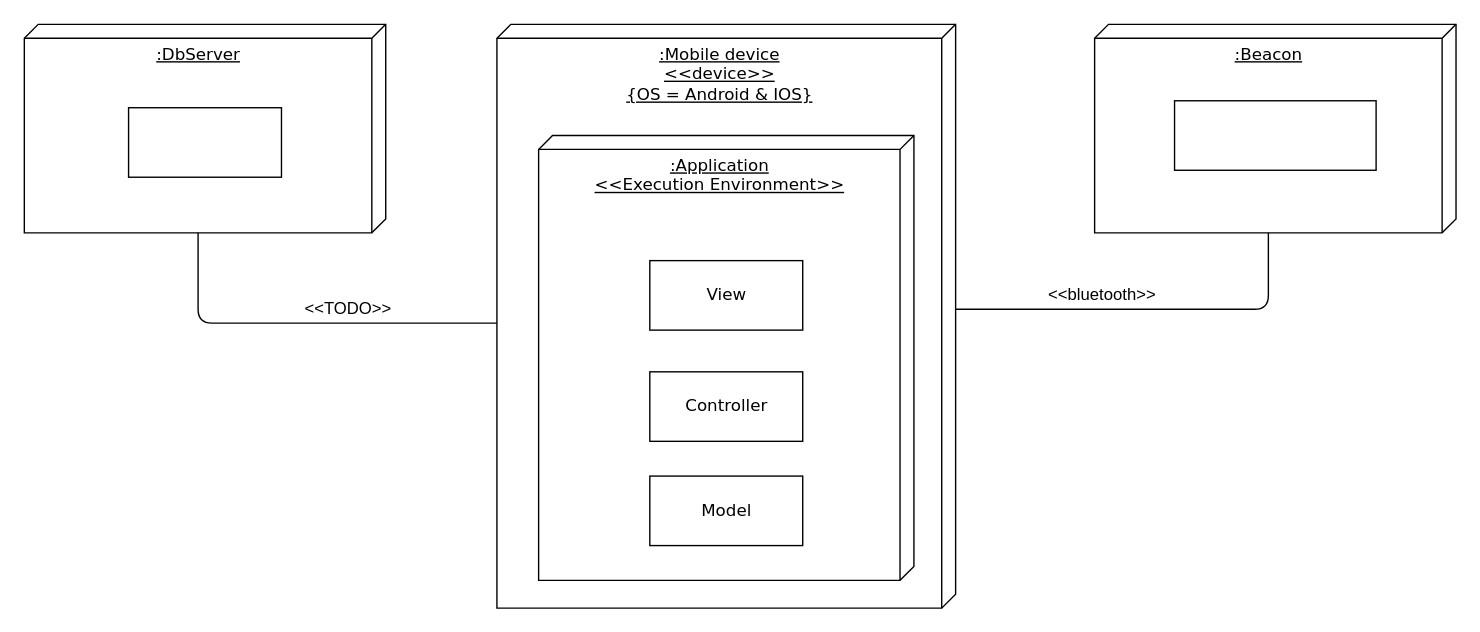
Some shapes in this 1480 by 632 pixel diagram are drawn without their labels. Each missing label, with the centre of its shape:
Conference DB <<TODO>>: point (204, 141)
ID transmitting <<BBC micro:bit>>: point (1274, 134)
